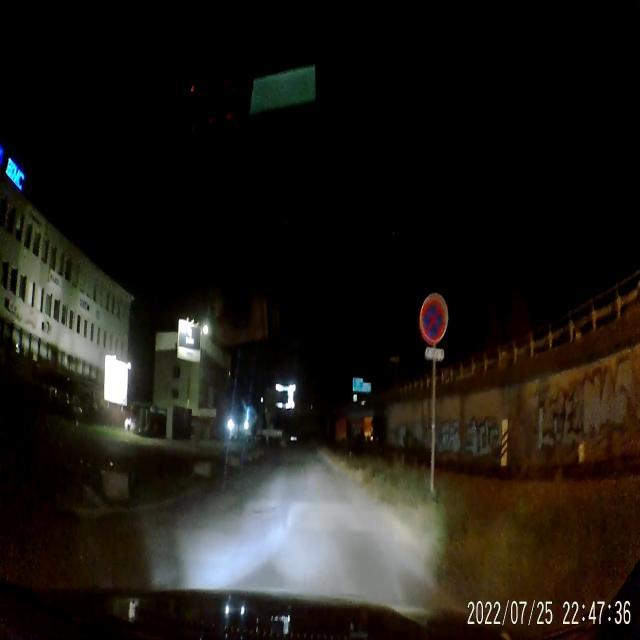Pothole: (250, 502, 276, 518)
